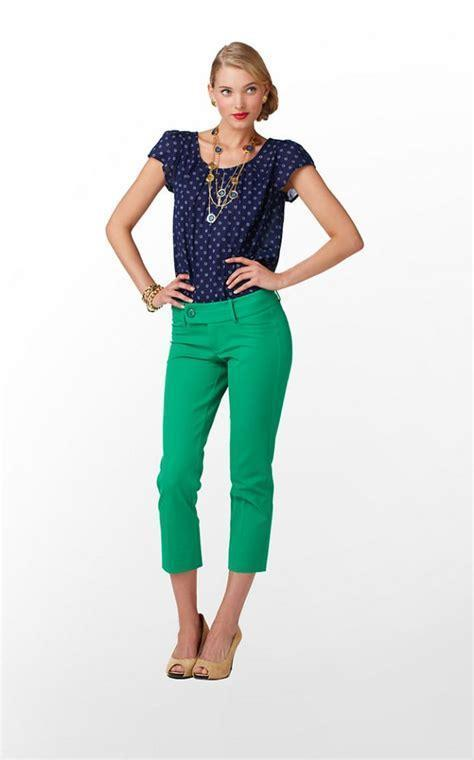Tshirt: (148, 129, 316, 300)
pants: (158, 286, 294, 579)
